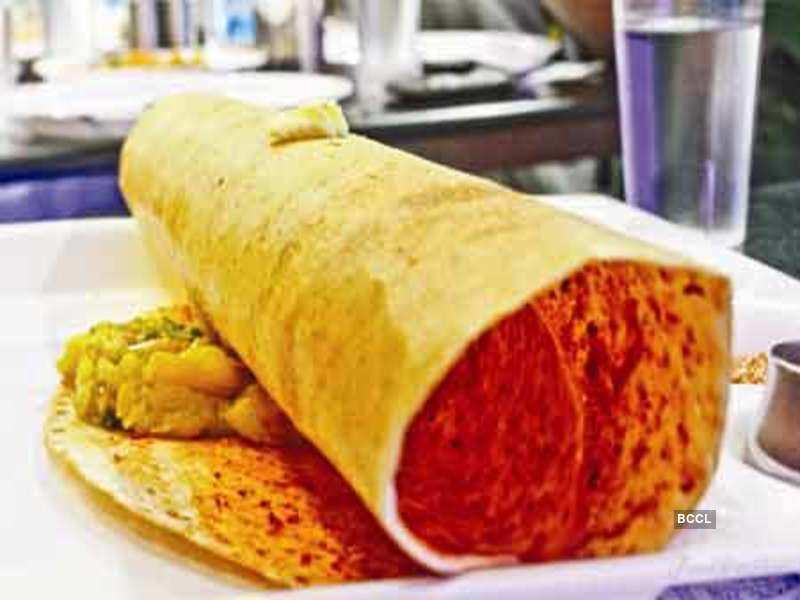dosa: (117, 71, 738, 593)
